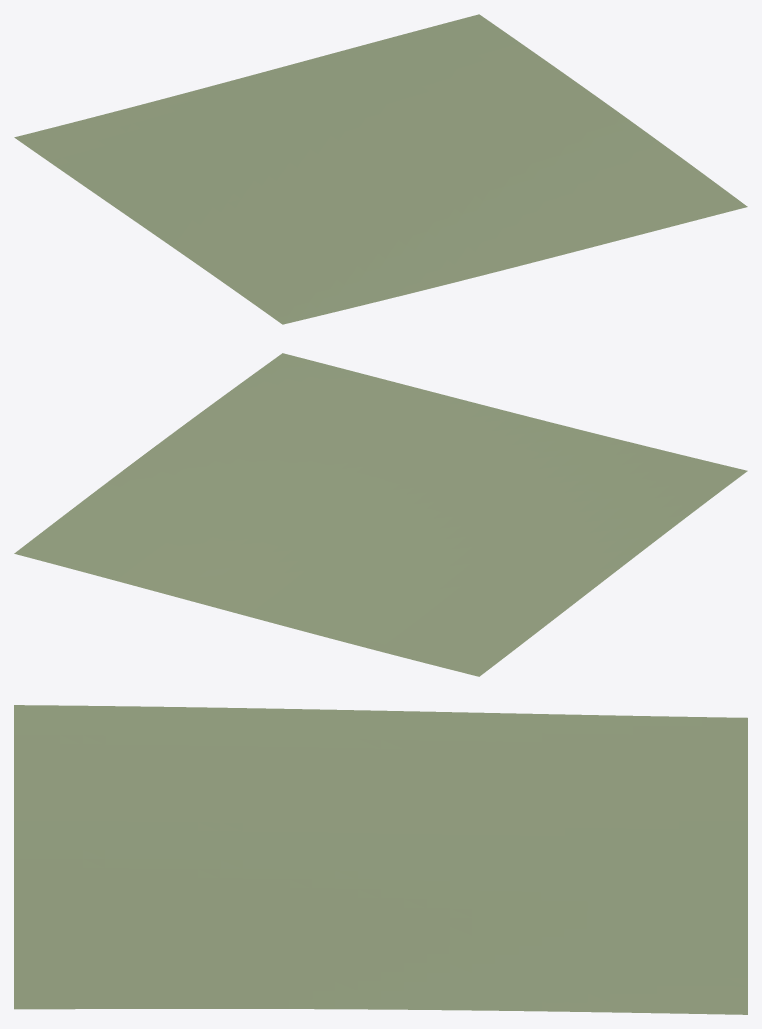
Rendered from expanse-19-31.glb.
3 renders of one model, top to bottom at view 1: azimuth 30°, elevation 25°; view 2: azimuth 150°, elevation 25°; view 3: azimuth 270°, elevation 25°, orthographic. The views are drawn at different scales.
Parts seen in each view (by area): view 1: expanse-19-31; view 2: expanse-19-31; view 3: expanse-19-31.
Boxes of the visible parts, <box> form: expanse-19-31: <box>14,14,747,324</box>; expanse-19-31: <box>14,353,747,676</box>; expanse-19-31: <box>14,705,747,1014</box>.
Bounding box in the file's own units: 256 × 7.38 × 256.
